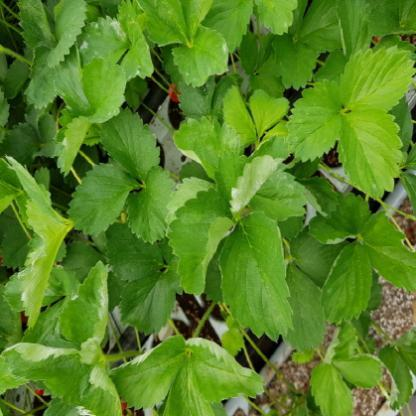Strawberry_Powdery_Mildew_Leaf: (17, 197, 73, 330), (107, 334, 188, 411), (214, 134, 292, 213), (0, 342, 94, 405), (57, 259, 110, 365), (186, 337, 266, 405), (171, 22, 230, 88), (305, 190, 372, 246), (248, 166, 312, 222), (73, 354, 125, 415), (378, 342, 415, 413), (78, 13, 130, 62), (333, 353, 383, 391), (295, 176, 339, 218), (323, 320, 358, 364)
